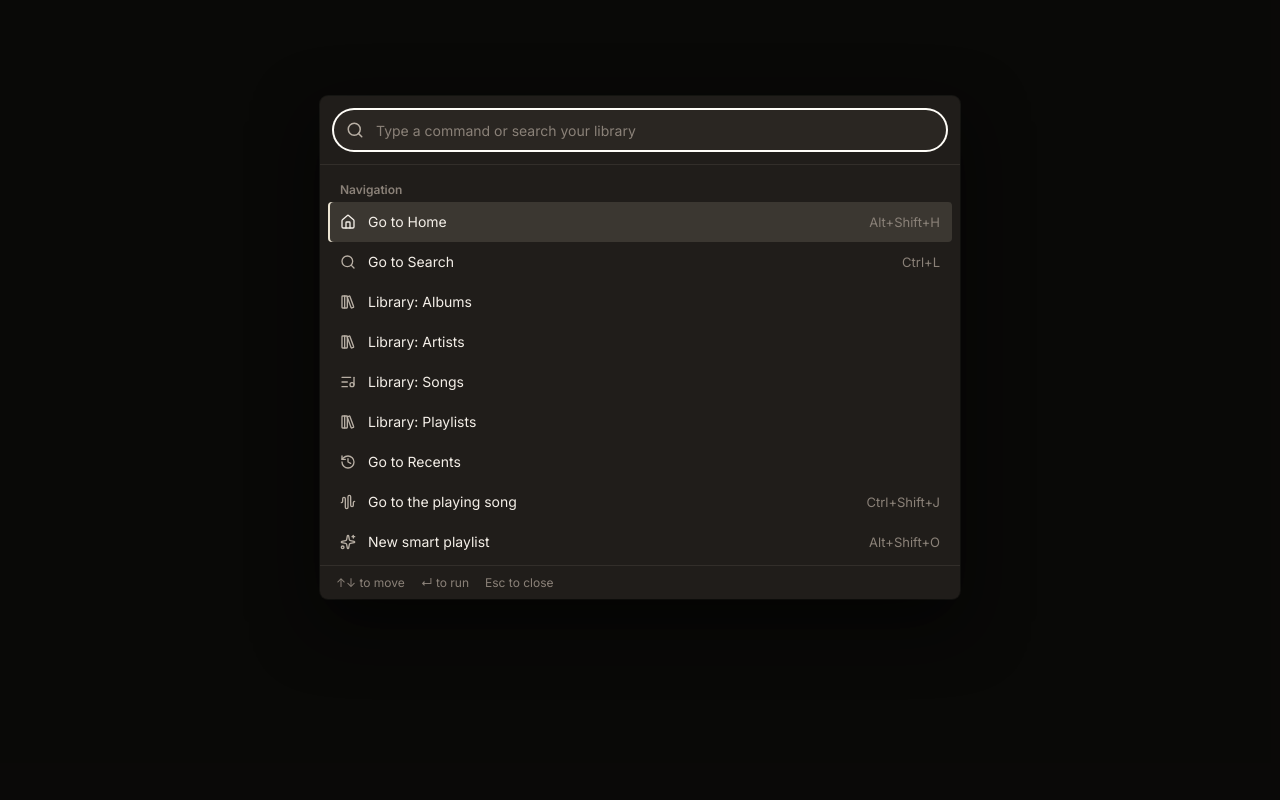
Test: command palette › goes back to the first row when new results come in, even with as many rows
Step 1. Type "zz" into the dropdown → (640, 130), box [332, 108, 948, 152]
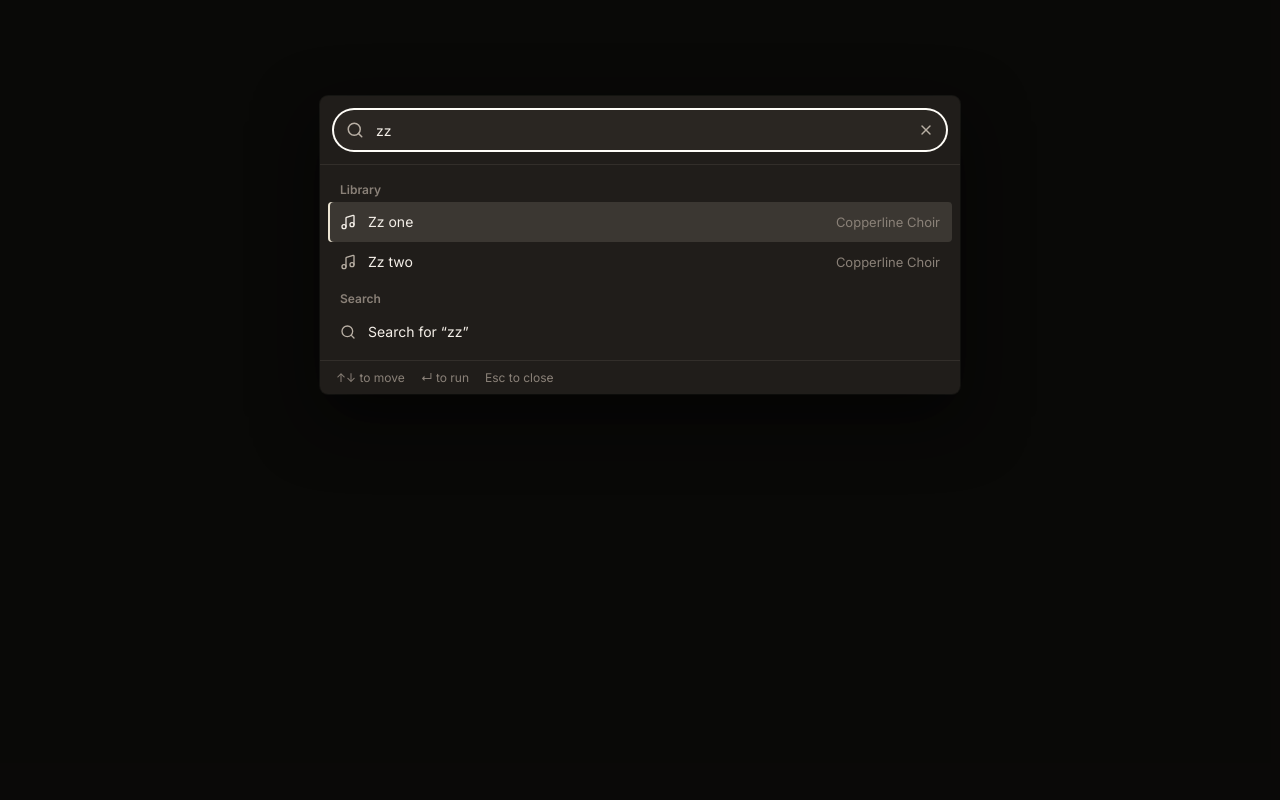
Step 2. Press Arrowdown
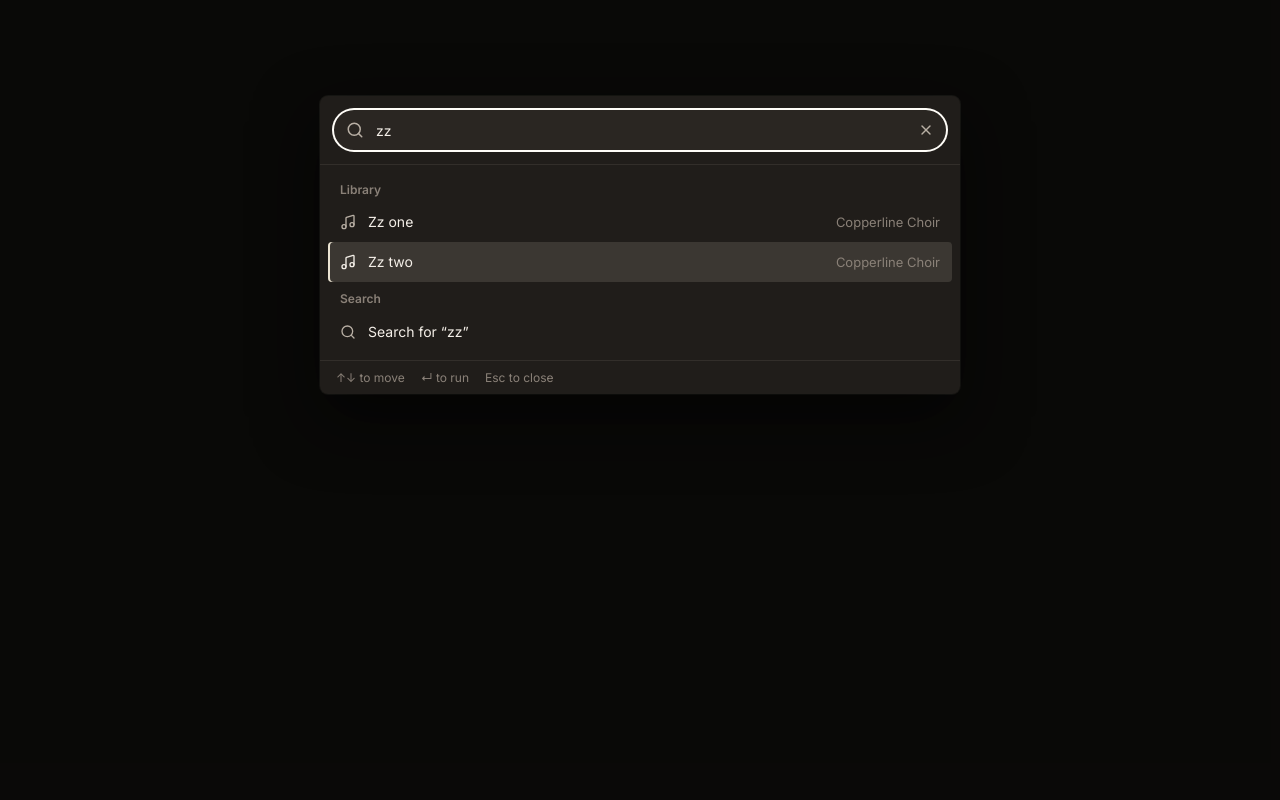
Check: the option "Zz two Copperline Choir" is shown, box [328, 242, 952, 282]
Step 3. Type "z" into the dropdown → (640, 130), box [332, 108, 948, 152]
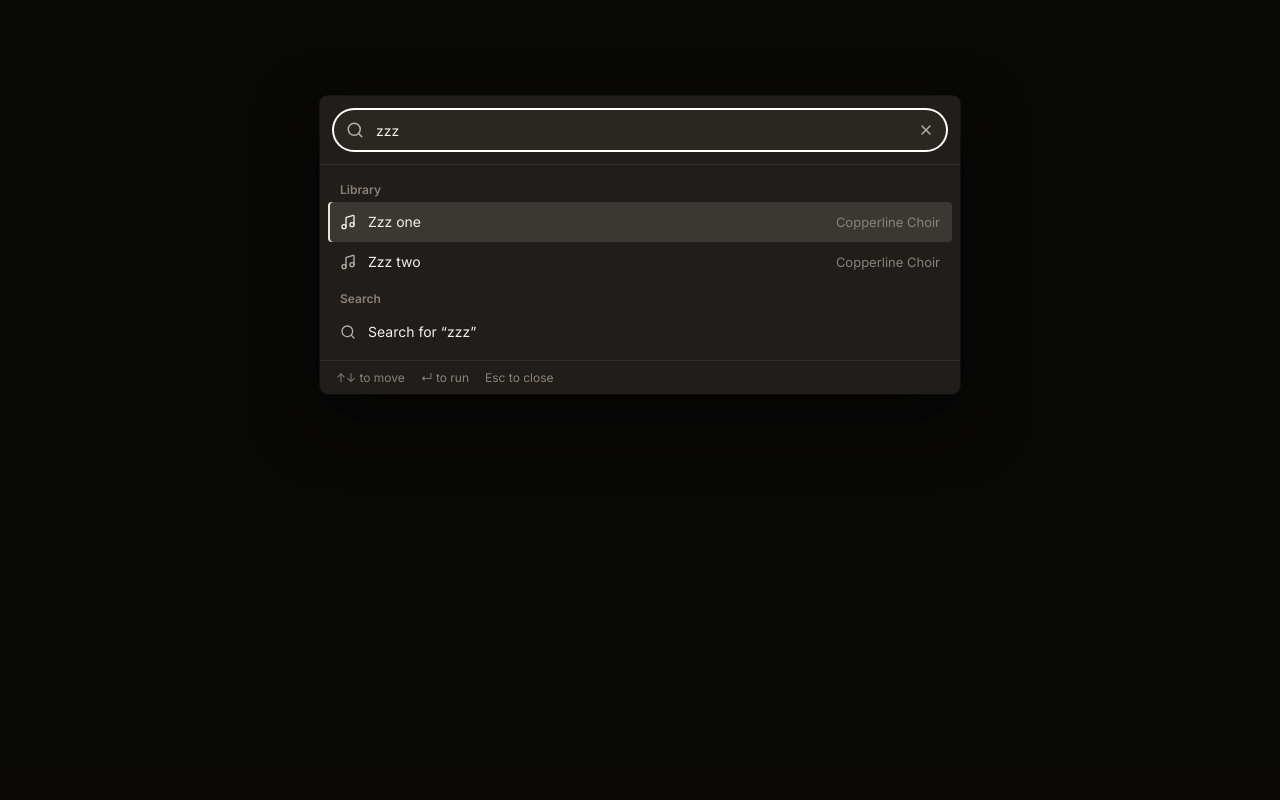
Check: the option "Zzz one Copperline Choir" is shown, box [328, 202, 952, 242]
